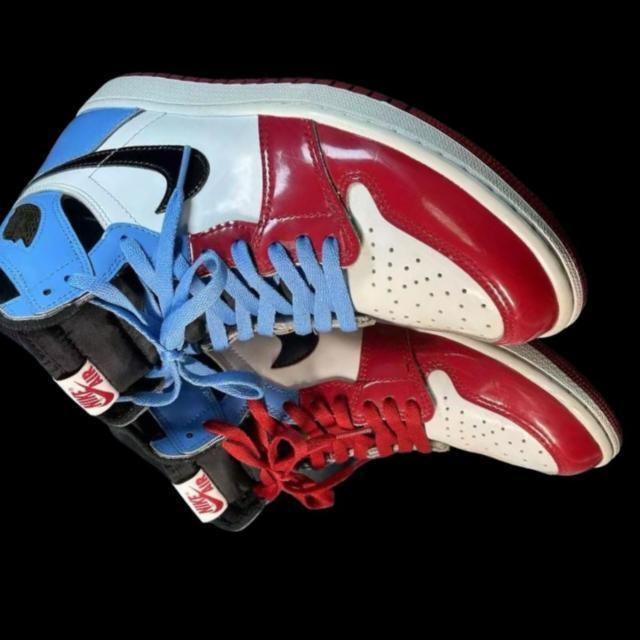nike original jordan 1: (0, 0, 626, 615), (69, 149, 640, 640)
